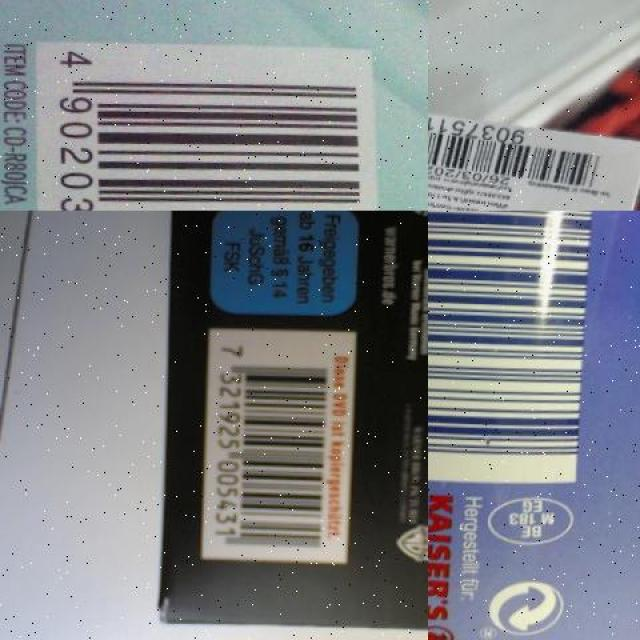Barcode: (20, 31, 397, 210), (428, 211, 599, 480), (207, 324, 360, 560), (428, 107, 615, 189)
